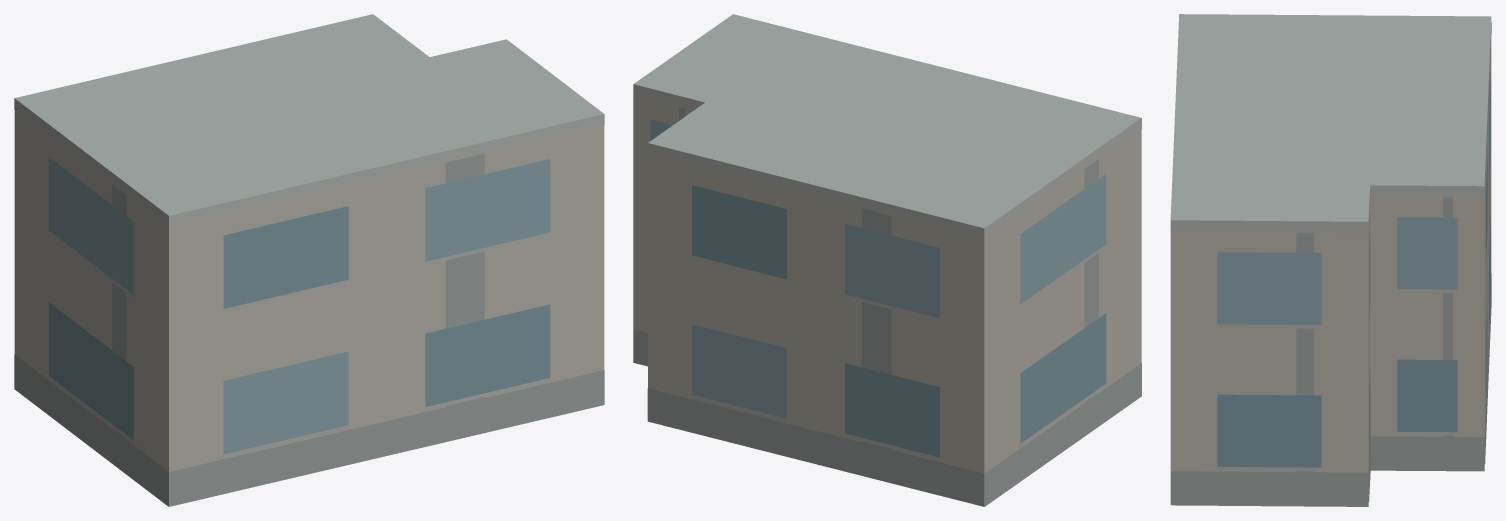
The model's file is residential-444d5a09-3959-40a1-9e05-2bc18236a99c.glb.
3 views of the same model, side by side, from view 1: azimuth 30°, elevation 25°; view 2: azimuth 150°, elevation 25°; view 3: azimuth 270°, elevation 25° (orthographic). The views are drawn at different scales.
Parts seen in each view (by area): view 1: residential-444d5a09-3959-40a1-9e05-2bc18236a99c.tmp; view 2: residential-444d5a09-3959-40a1-9e05-2bc18236a99c.tmp; view 3: residential-444d5a09-3959-40a1-9e05-2bc18236a99c.tmp.
Boxes of the visible parts, x1,y1,x2,y2 form: residential-444d5a09-3959-40a1-9e05-2bc18236a99c.tmp: (14,14,604,506); residential-444d5a09-3959-40a1-9e05-2bc18236a99c.tmp: (633,14,1141,506); residential-444d5a09-3959-40a1-9e05-2bc18236a99c.tmp: (1170,14,1491,506).
Bounding box in the file's own units: 9.54 × 6.1 × 6.23.
